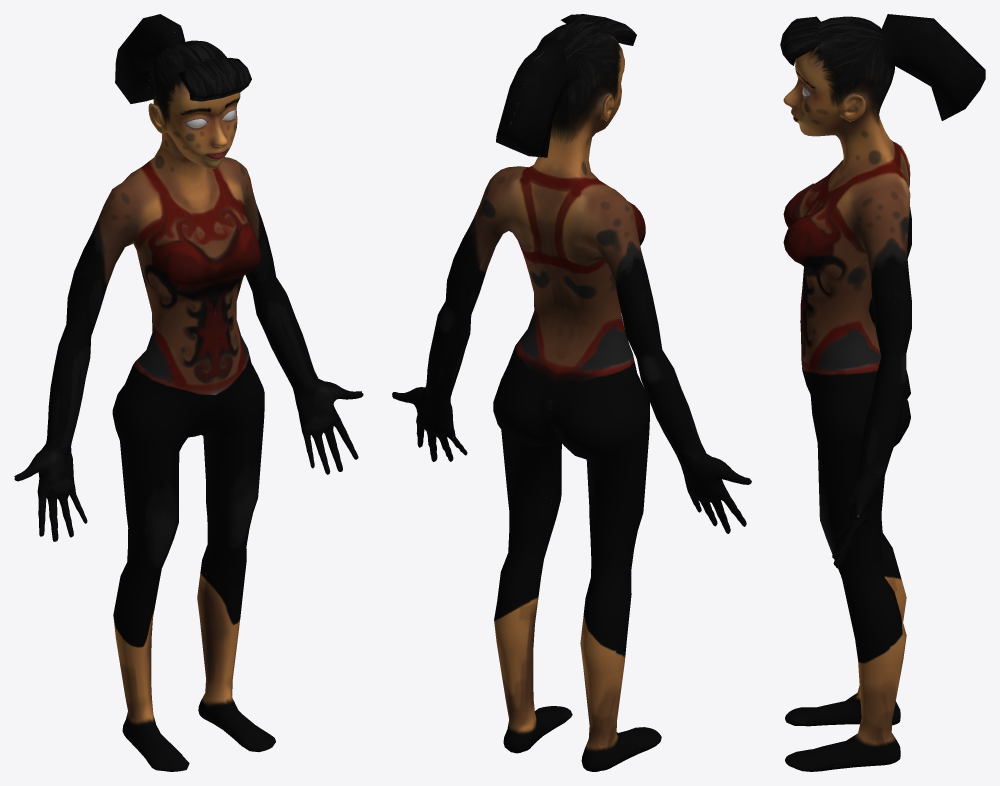
The model's file is Npc.fbx.
3 renders of one model, left to right at view 1: azimuth 30°, elevation 25°; view 2: azimuth 150°, elevation 25°; view 3: azimuth 270°, elevation 25°, orthographic. The views are drawn at different scales.
Parts seen in each view (by area): view 1: retopolgy; view 2: retopolgy; view 3: retopolgy.
Boxes of the visible parts, x1=… form: retopolgy: x1=14, y1=14, x2=363, y2=771; retopolgy: x1=392, y1=14, x2=751, y2=771; retopolgy: x1=780, y1=14, x2=985, y2=771.
Bounding box in the file's own units: 523 × 1007 × 258.
2 materials, 1 textured.
